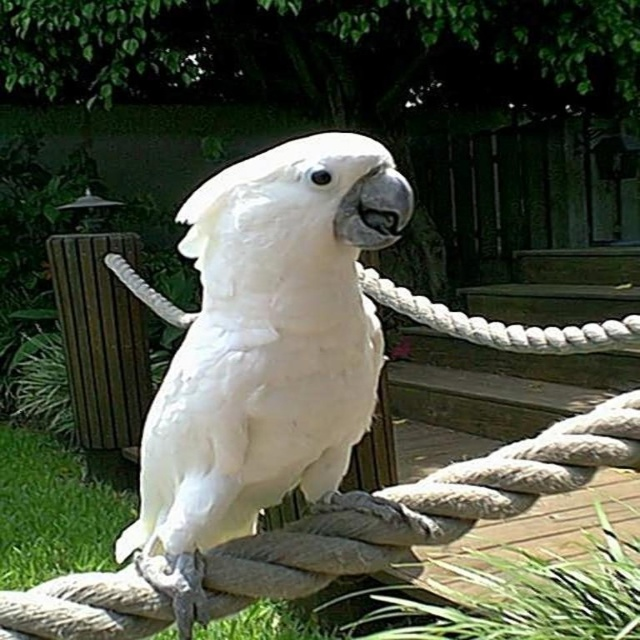Parrot: (115, 133, 442, 640)
